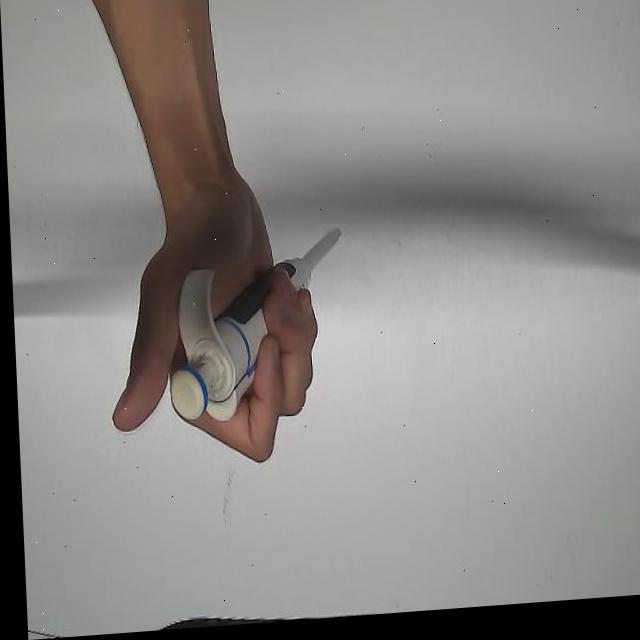Single Channel Pipettor: (156, 228, 345, 429)
